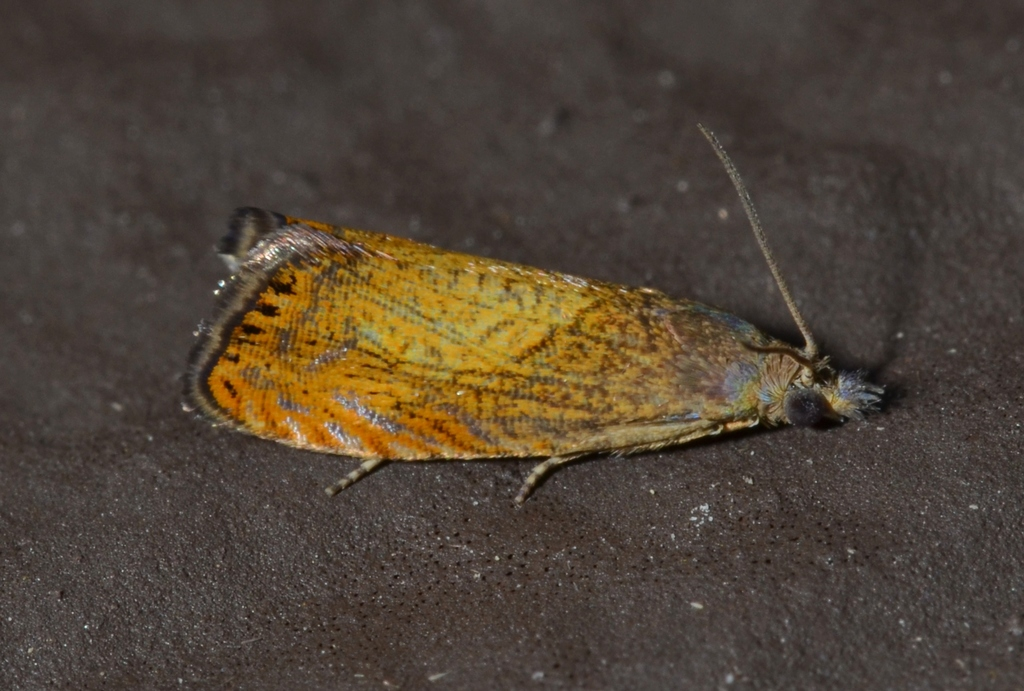Butterfly: (154, 194, 930, 498)
